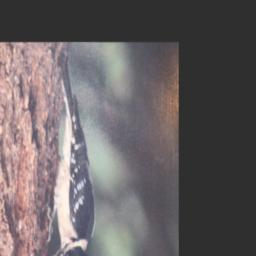Woodpecker: (42, 56, 98, 256)
